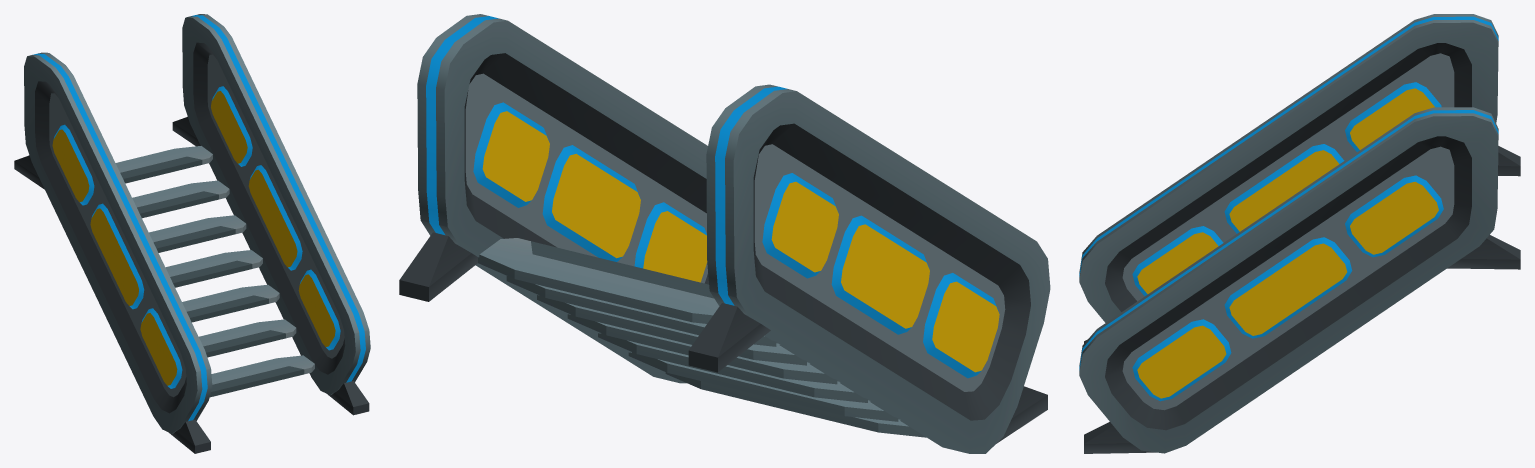
Rendered from ramp_up_1x2_breached.glb.
3 views of the same model, side by side, from view 1: azimuth 30°, elevation 25°; view 2: azimuth 150°, elevation 25°; view 3: azimuth 270°, elevation 25° (orthographic). The views are drawn at different scales.
Parts seen in each view (by area): view 1: Stair_type_C_fence_001, Stair_type_C_001; view 2: Stair_type_C_fence_001, Stair_type_C_001; view 3: Stair_type_C_fence_001.
Part boxes in pixels (x1,y1,x2,y2): Stair_type_C_fence_001: (14,14,370,453); Stair_type_C_001: (115,146,314,397); Stair_type_C_fence_001: (399,14,1050,453); Stair_type_C_001: (478,238,926,437); Stair_type_C_fence_001: (1079,14,1520,453).
Bounding box in the file's own units: 1.79 × 2.75 × 3.26.
2 materials, 2 textured.
